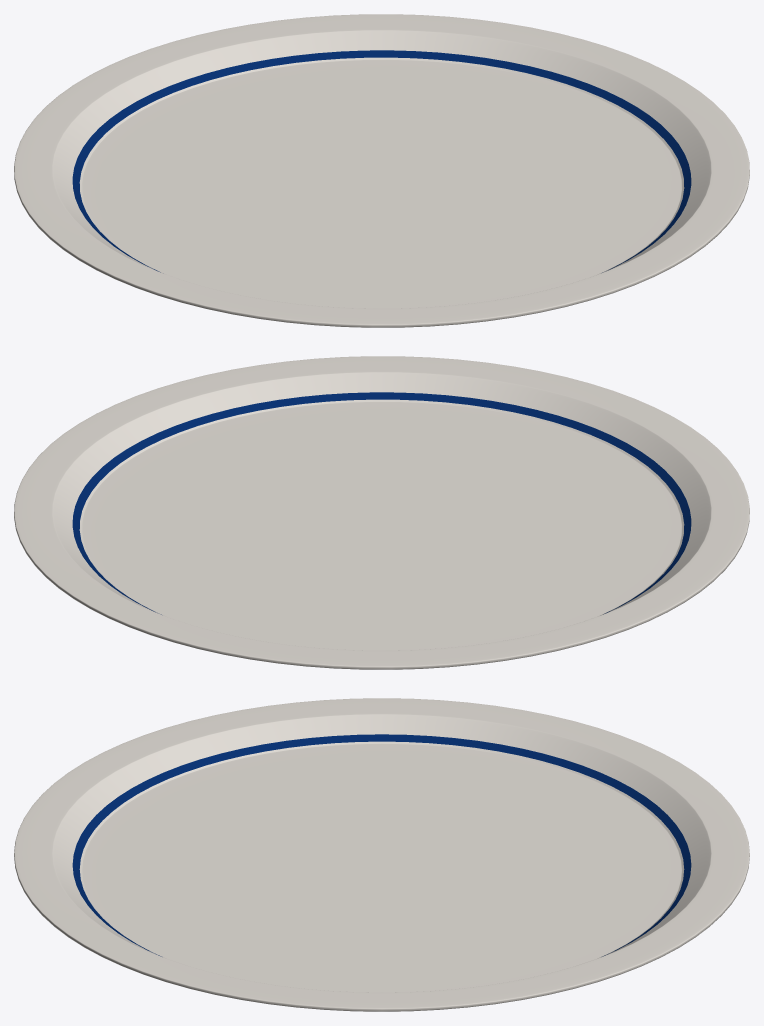
File: Plate.fbx
3 renders of one model, top to bottom at view 1: azimuth 30°, elevation 25°; view 2: azimuth 150°, elevation 25°; view 3: azimuth 270°, elevation 25°, orthographic.
Visible parts, largest first — view 1: Plate; view 2: Plate; view 3: Plate.
Boxes of the visible parts, x1,y1,x2,y2 form: Plate: (14, 14, 749, 327); Plate: (14, 356, 749, 669); Plate: (14, 698, 749, 1011).
Bounding box in the file's own units: 15.46 × 0.5218 × 15.46.
